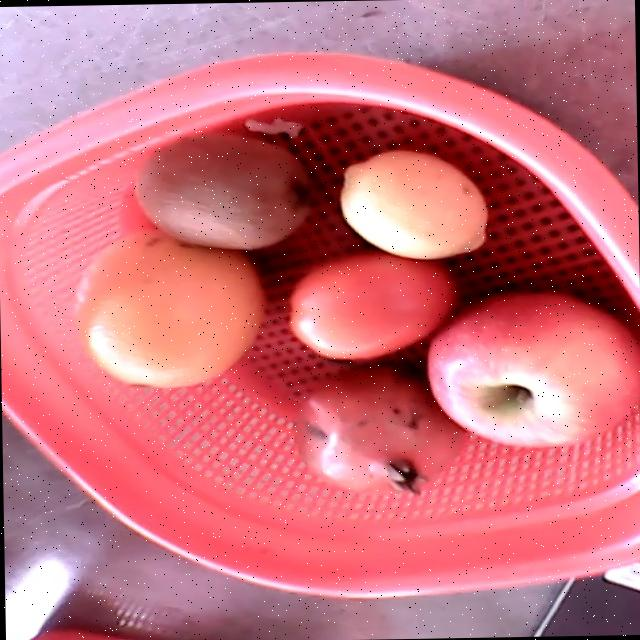apple: (426, 288, 640, 447)
kiwi: (135, 132, 313, 250)
lemon: (339, 150, 487, 258)
orange: (74, 226, 265, 387)
pomegranate: (293, 364, 466, 496)
tomato: (290, 250, 460, 359)
